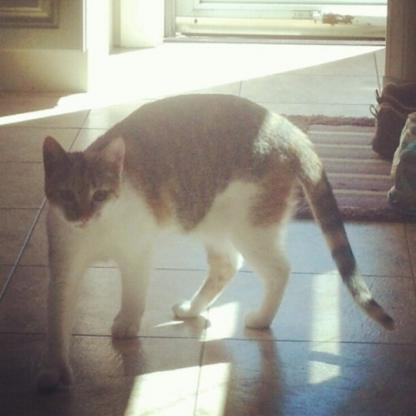Target: (26, 88, 402, 380)
